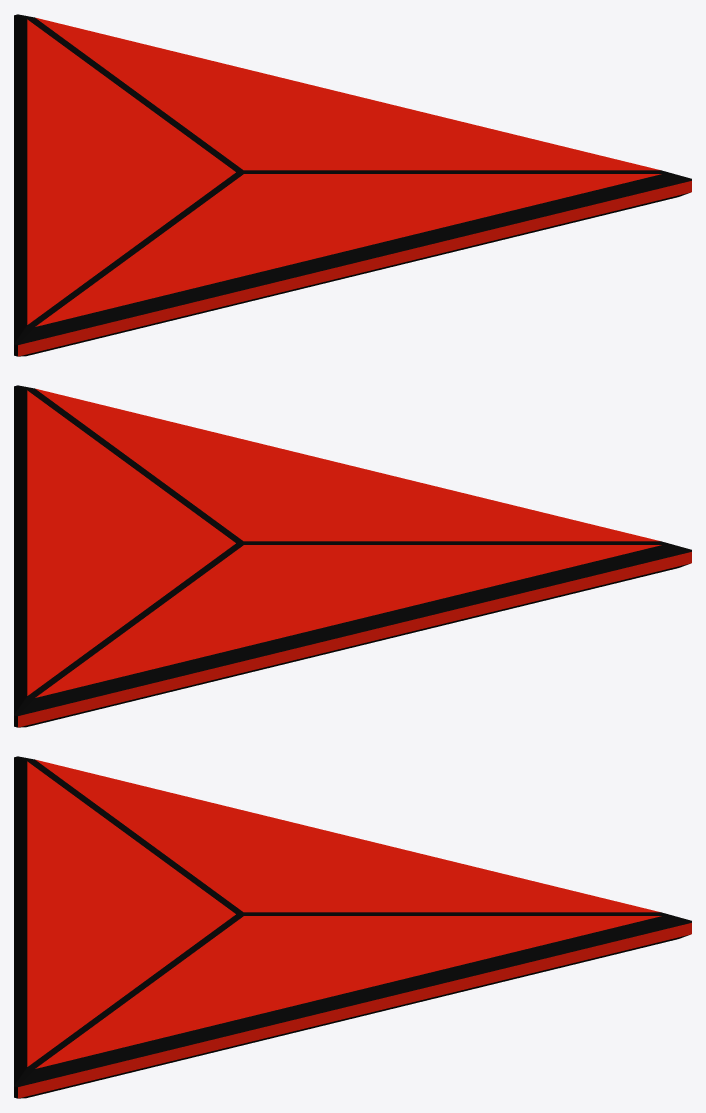
Rendered from שלוש שלישים.fbx.
3 views of the same model, one above another, from view 1: azimuth 30°, elevation 25°; view 2: azimuth 150°, elevation 25°; view 3: azimuth 270°, elevation 25° (orthographic).
Parts seen in each view (by area): view 1: Circle; view 2: Circle; view 3: Circle.
Part boxes in pixels (bbox=[...]): Circle: bbox=[14, 14, 691, 356]; Circle: bbox=[14, 385, 691, 727]; Circle: bbox=[14, 756, 691, 1098].
Size of the model in its own units: 172 by 5.53 by 149.
